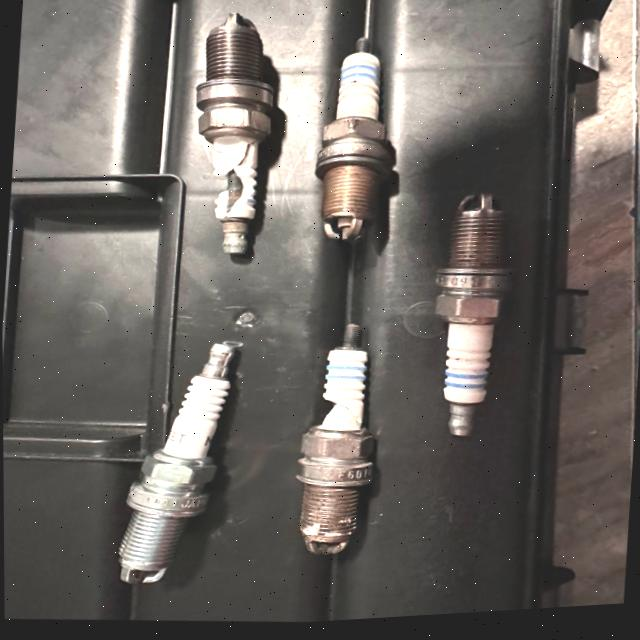damaged_spark-plug: (181, 14, 274, 261), (288, 327, 381, 566)
spark-plug: (95, 333, 240, 592), (413, 192, 513, 448), (301, 0, 402, 247)
